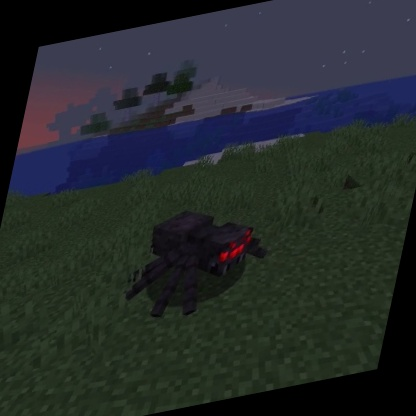spider: (114, 188, 282, 332)
